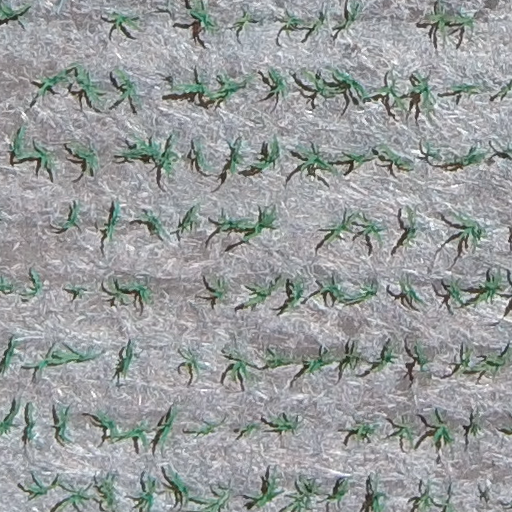planta: (460, 265, 505, 311), (23, 341, 77, 373), (240, 276, 287, 312), (317, 206, 358, 244), (235, 207, 277, 244), (328, 67, 371, 102), (375, 73, 413, 112), (426, 7, 476, 36), (70, 61, 104, 103), (300, 69, 346, 99), (119, 134, 163, 165), (421, 412, 456, 450), (211, 73, 255, 103), (310, 279, 353, 309), (153, 132, 181, 177), (452, 213, 488, 248), (169, 75, 217, 101), (90, 410, 125, 445), (296, 144, 336, 174), (34, 66, 72, 97), (300, 350, 343, 377), (408, 72, 435, 115), (378, 143, 413, 176), (113, 419, 151, 448), (452, 347, 487, 378), (251, 136, 281, 172), (444, 145, 487, 170), (69, 141, 99, 176), (98, 200, 122, 242), (155, 406, 178, 449), (113, 67, 140, 103), (356, 211, 385, 244), (262, 349, 305, 371), (397, 206, 418, 249), (281, 278, 305, 315), (119, 280, 154, 305), (369, 343, 397, 374), (9, 125, 31, 163), (228, 350, 252, 384), (51, 348, 99, 365), (109, 11, 139, 38), (115, 342, 136, 379), (105, 280, 136, 305), (224, 140, 245, 176), (217, 214, 253, 235), (264, 415, 299, 436), (28, 144, 56, 170), (350, 282, 378, 308), (339, 151, 372, 173), (265, 67, 288, 97), (22, 268, 44, 299), (54, 405, 71, 445), (396, 279, 423, 304), (340, 346, 367, 371), (391, 419, 415, 447), (348, 420, 378, 442), (140, 211, 166, 236), (180, 351, 204, 378), (205, 278, 228, 305), (177, 204, 198, 233), (193, 140, 212, 171), (61, 202, 81, 230), (281, 13, 306, 35), (24, 401, 37, 442), (446, 279, 465, 306), (413, 341, 430, 371), (449, 82, 482, 97), (189, 421, 218, 437), (233, 10, 254, 31), (239, 421, 261, 440), (306, 15, 327, 33), (423, 141, 440, 160), (466, 422, 483, 438), (69, 285, 84, 299), (114, 283, 117, 287)
